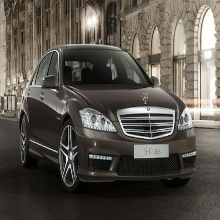no damage: (18, 44, 198, 193)
